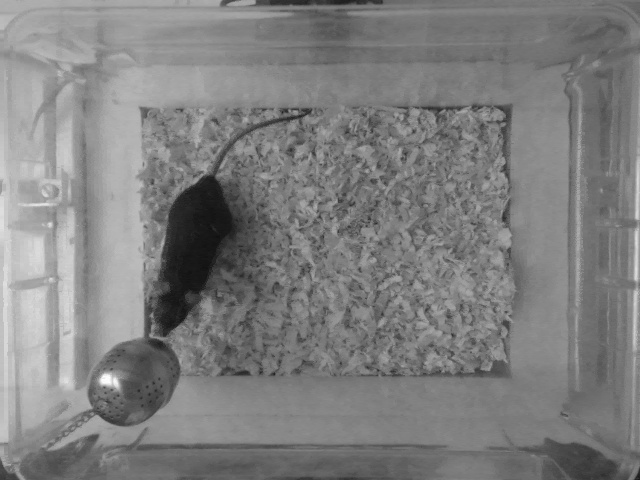mice: (148, 108, 315, 339)
